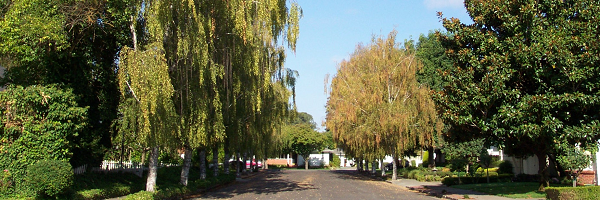tree: (314, 24, 448, 200)
